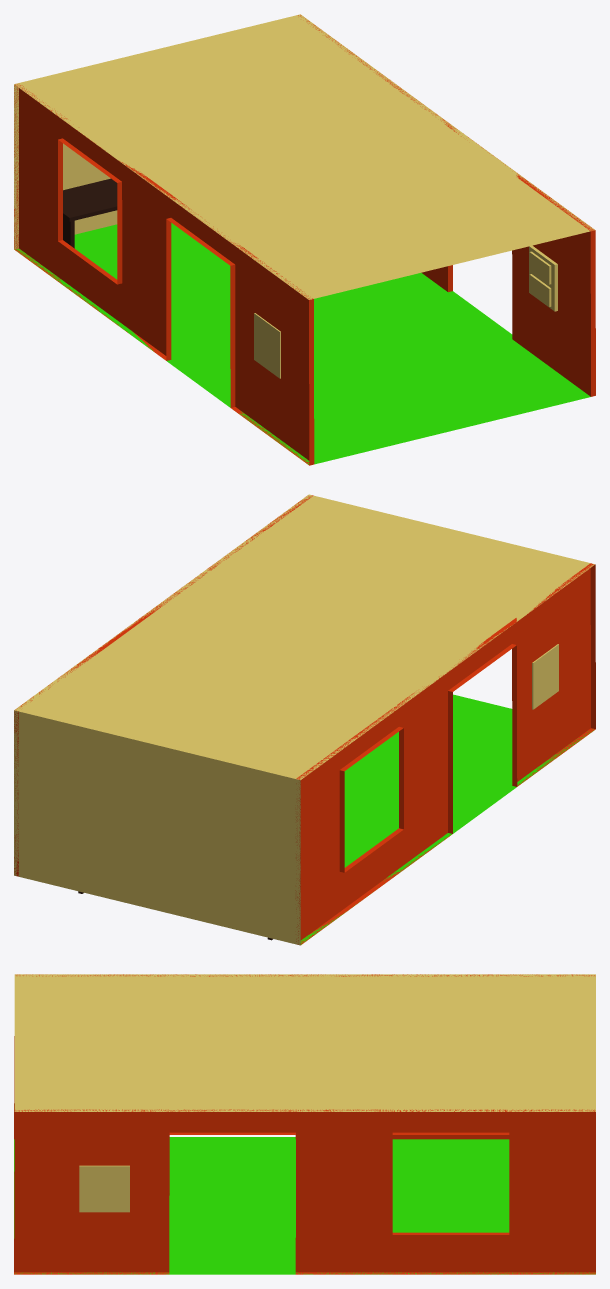
The model's file is Office.glb.
The picture shows the model from 3 angles, top to bottom: view 1: azimuth 30°, elevation 25°; view 2: azimuth 150°, elevation 25°; view 3: azimuth 270°, elevation 25°; orthographic projection.
Parts seen in each view (by area): view 1: Plane, Cube, Plane.001; view 2: Plane; view 3: Plane.
Part boxes in pixels (x1,y1,x2,y2): Plane: (14, 14, 595, 465); Cube: (63, 178, 117, 221); Plane.001: (529, 251, 551, 306); Plane: (14, 494, 595, 945); Plane: (14, 974, 595, 1274).
Size of the model in its own units: 11.01 by 6.15 by 19.65.
